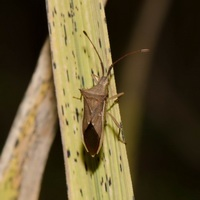insect: (80, 49, 150, 156)
